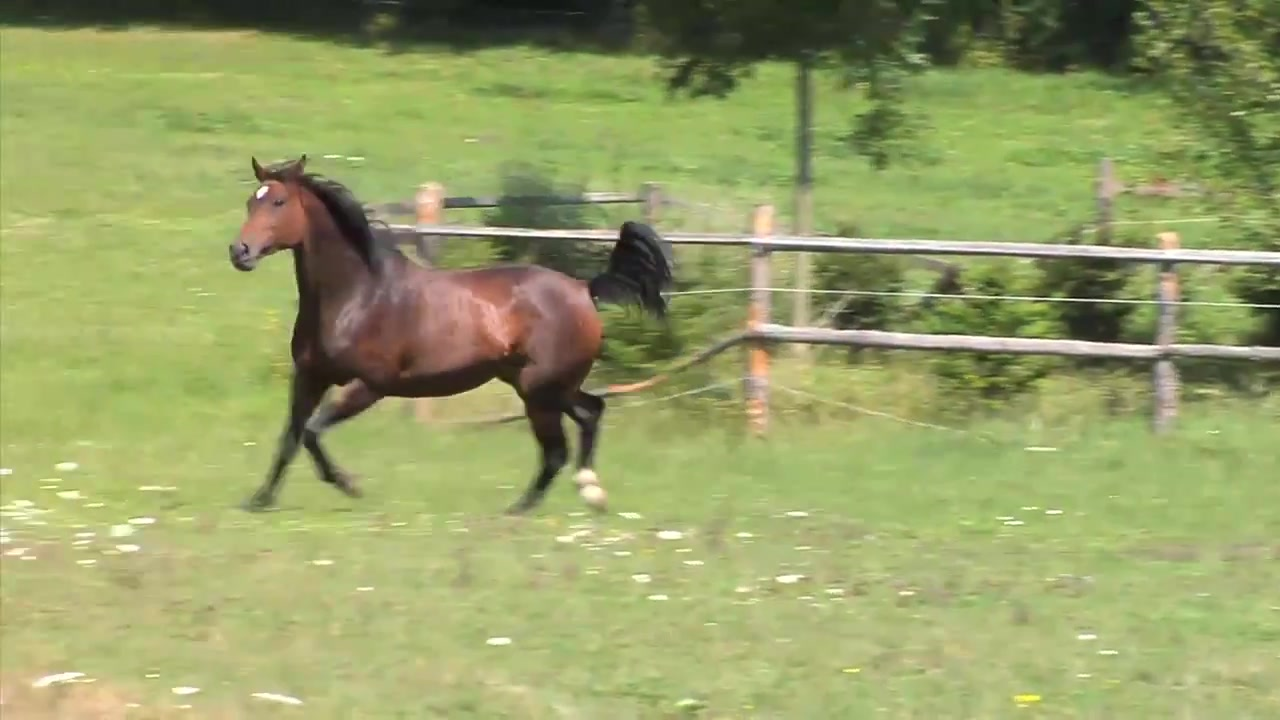horse: (229, 153, 676, 517)
